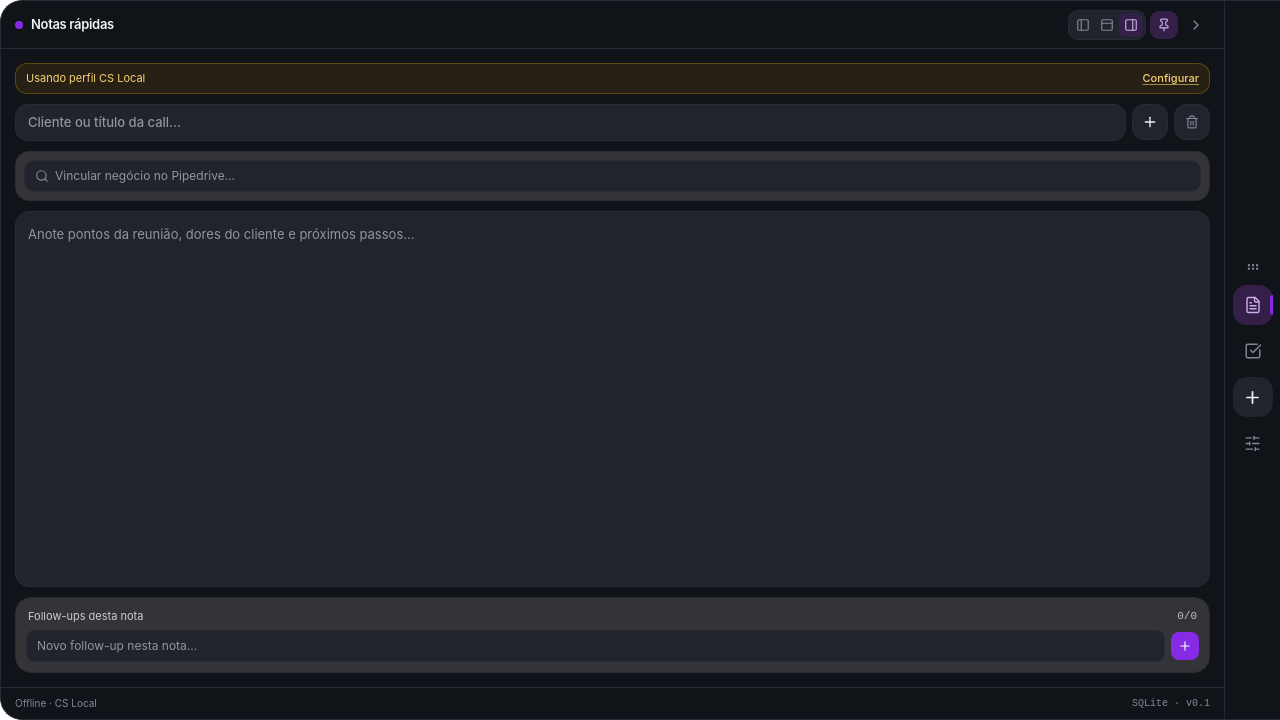
Scenario: App (fluxos integrados do dock) › filtra tarefas por Todas vs Nota atual e permite tentar novamente quando save_note_draft falha
Step 1. Type "Nota com erro" into the field with placeholder "Cliente ou título da call..." → (570, 122), box [15,104,1126,141]
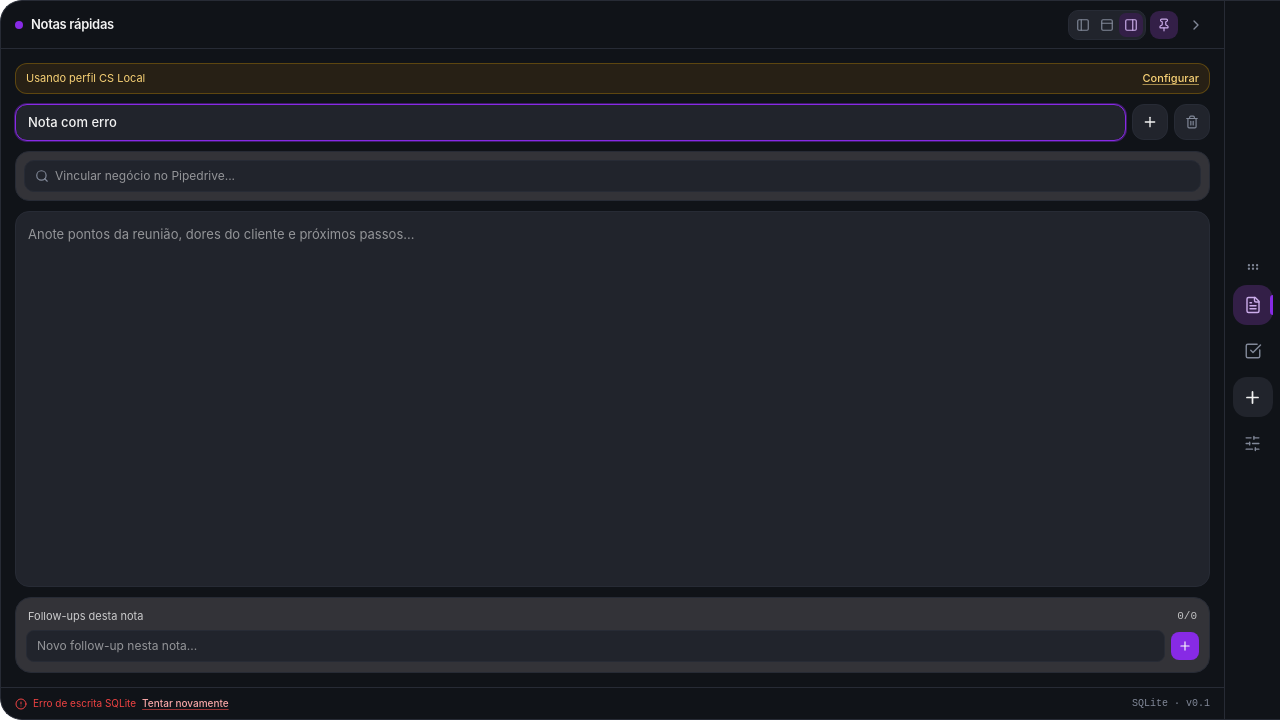
Result: the text "Erro de escrita SQLite" is shown at [33,696,136,711]
Step 2. Click the button "Tentar novamente" → (185, 704), box [142,696,229,711]
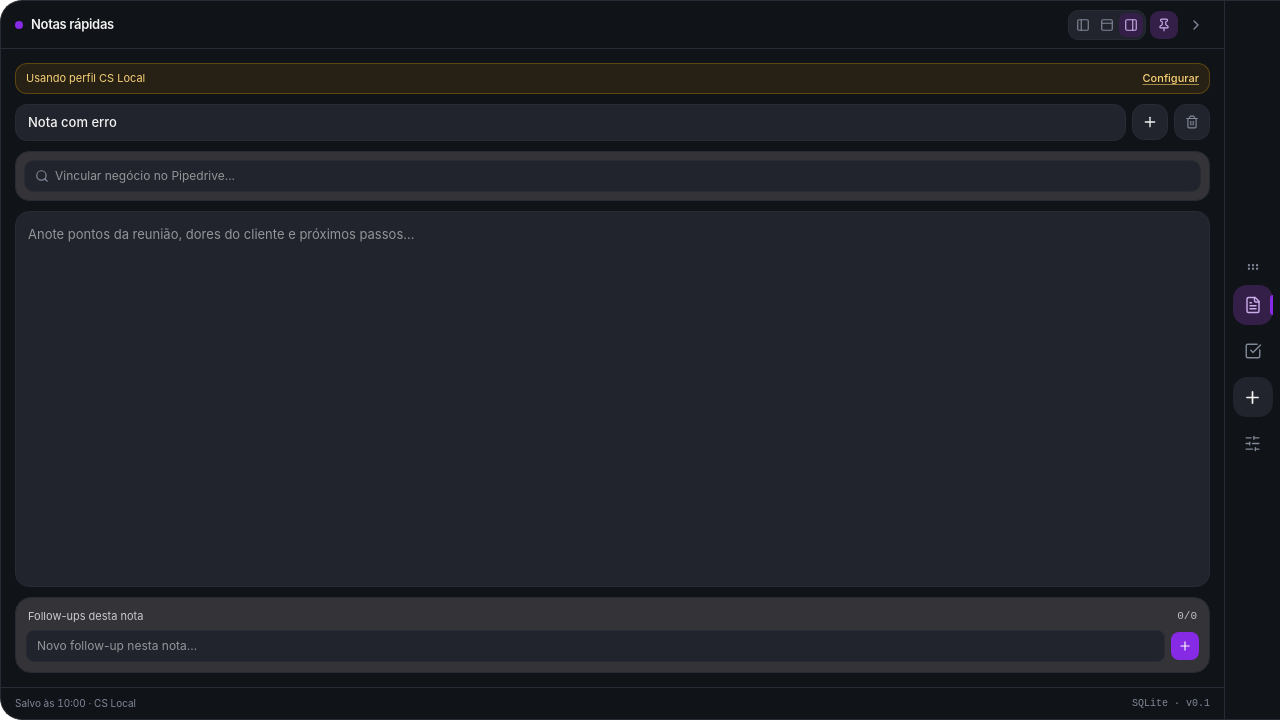
Result: the text "Salvo às 10:00 · CS Local" is shown at [15,697,136,709]
